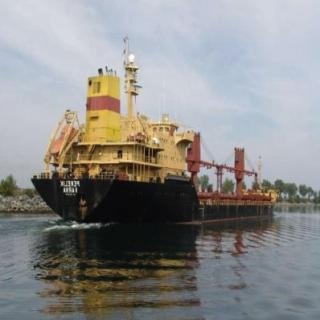Bulk Carrier: (31, 38, 254, 226)
